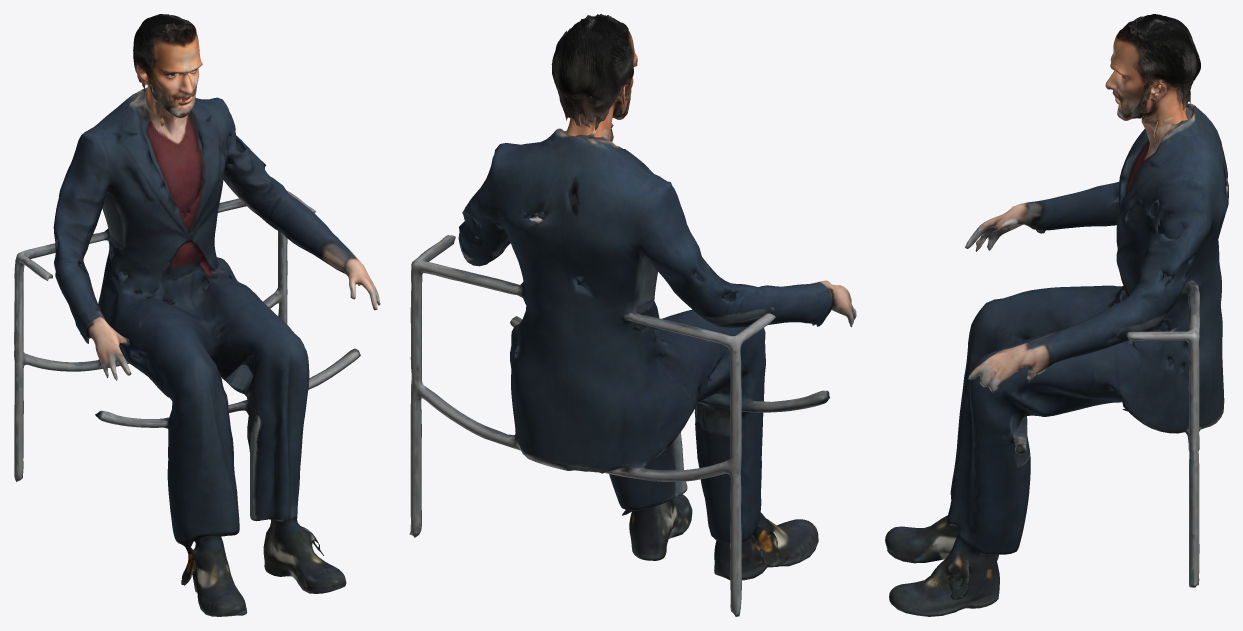
File: marc2.glb
3 views of the same model, side by side, from view 1: azimuth 30°, elevation 25°; view 2: azimuth 150°, elevation 25°; view 3: azimuth 270°, elevation 25° (orthographic). The views are drawn at different scales.
Visible parts, largest first — view 1: Mesh_0.003, Mesh_0.002; view 2: Mesh_0.003, Mesh_0.002; view 3: Mesh_0.003, Mesh_0.002.
Boxes of the visible parts, bbox=[...] form: Mesh_0.003: bbox=[14, 87, 380, 616]; Mesh_0.002: bbox=[133, 14, 202, 126]; Mesh_0.003: bbox=[409, 123, 856, 616]; Mesh_0.002: bbox=[551, 14, 637, 140]; Mesh_0.003: bbox=[885, 103, 1228, 616]; Mesh_0.002: bbox=[1105, 14, 1200, 132].
Bounding box in the file's own units: 2.67 × 4.67 × 2.57.
Materials: 2 (2 with a texture image).
